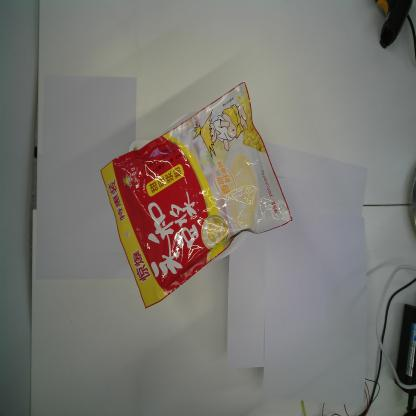Instant Drink: (97, 80, 293, 309)
